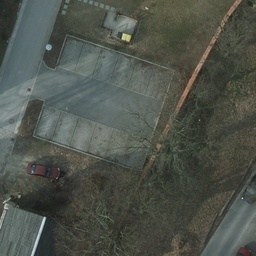car: (28, 160, 65, 185)
